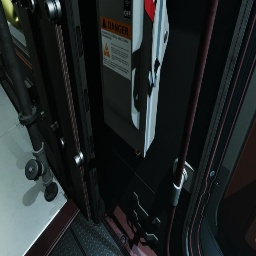SafetySwitchPanel ,: (96, 0, 169, 158)
